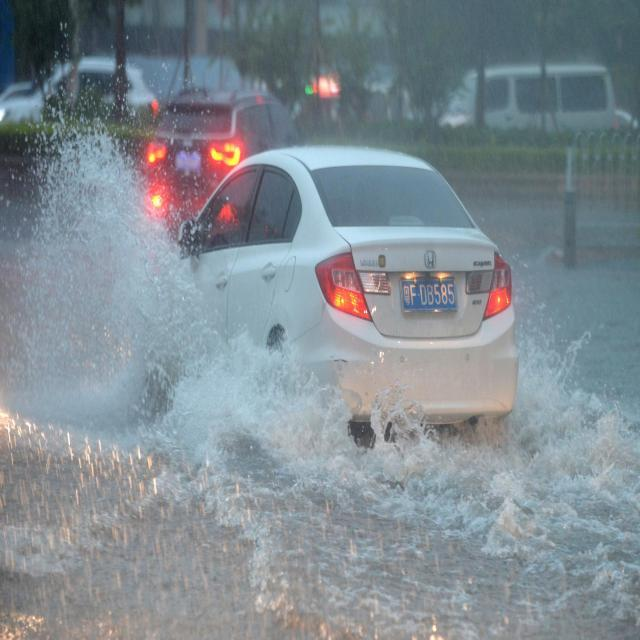car: (151, 138, 518, 428), (142, 86, 310, 210), (0, 55, 159, 155)
